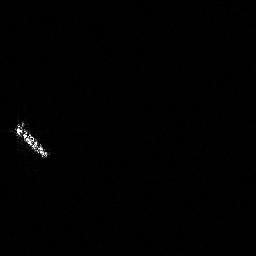ship: (9, 118, 53, 163)
